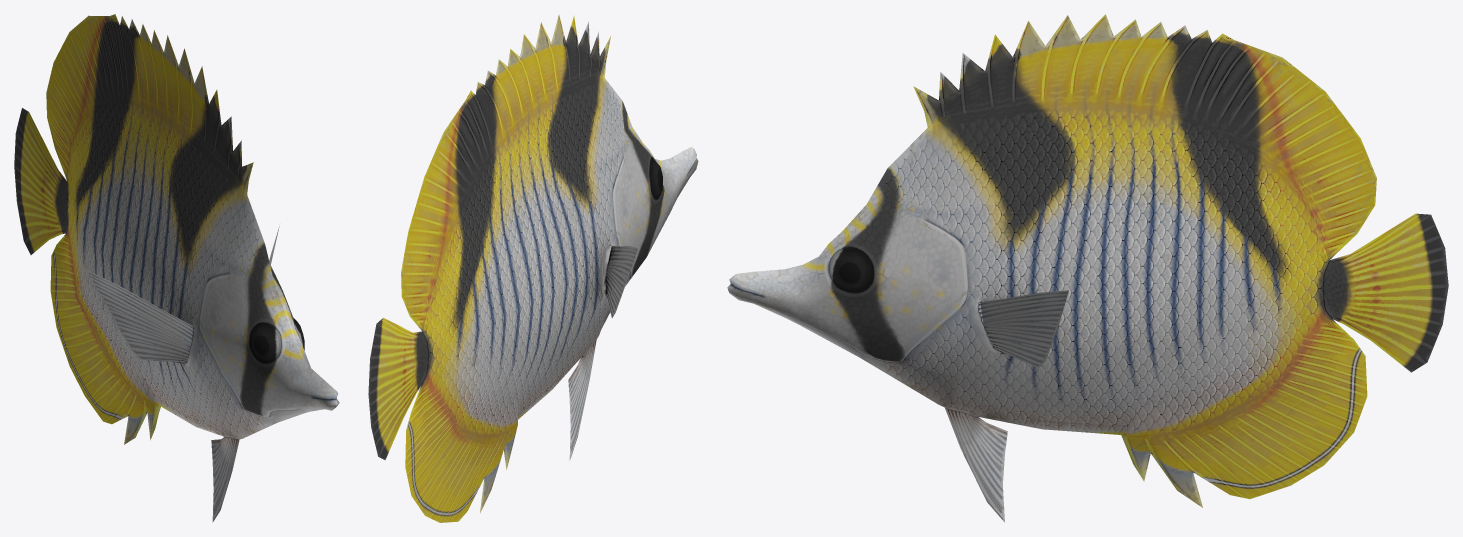
The model's file is BackwedgedButterflyfish.glb.
The picture shows the model from 3 angles, left to right: view 1: azimuth 30°, elevation 25°; view 2: azimuth 150°, elevation 25°; view 3: azimuth 270°, elevation 25°; orthographic projection. The views are drawn at different scales.
Visible parts, largest first — view 1: BackwedgedButterflyfish_Instance_Wander; view 2: BackwedgedButterflyfish_Instance_Wander; view 3: BackwedgedButterflyfish_Instance_Wander.
Boxes of the visible parts, x1=… form: BackwedgedButterflyfish_Instance_Wander: x1=14, y1=14, x2=339, y2=522; BackwedgedButterflyfish_Instance_Wander: x1=368, y1=14, x2=698, y2=522; BackwedgedButterflyfish_Instance_Wander: x1=727, y1=14, x2=1448, y2=522.
Bounding box in the file's own units: 1.69 × 3.82 × 4.91.
1 material, 1 textured.
